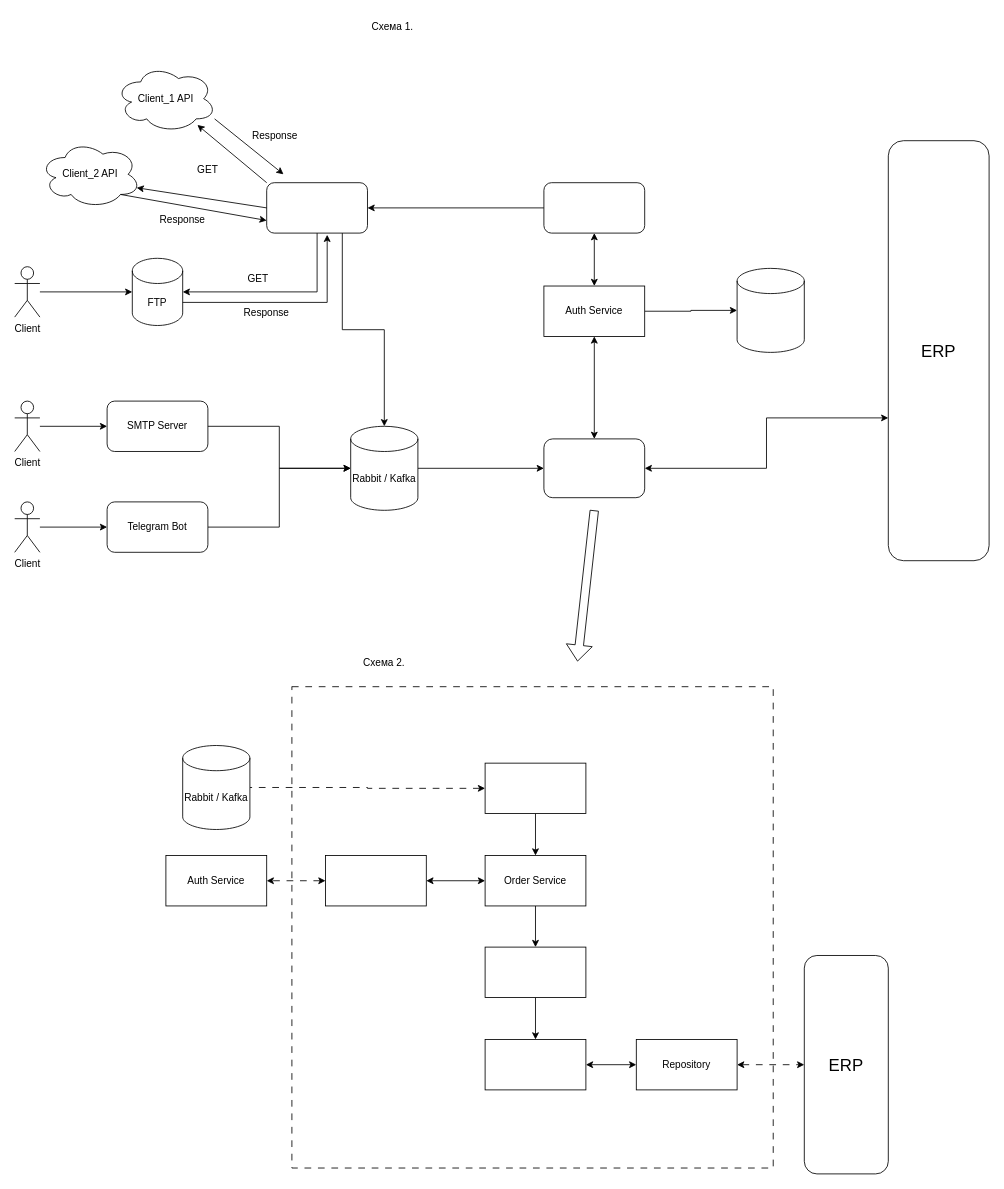
Some shapes in this 1004 by 1189 pixel diagram are drawn without their labels. The shapes that lost their labels are listed below. From the top down, each one's centre as x and y in pixels, then its label:
the point at 317,207: Web Service (Запрос заказов)
the point at 594,207: CRON
the point at 770,310: Auth DB
the point at 594,468: Web Service (Обработка заказов)
the point at 535,788: Message Receiver
the point at 375,880: Auth Provider
the point at 535,972: Parser
the point at 535,1064: Order Builder
